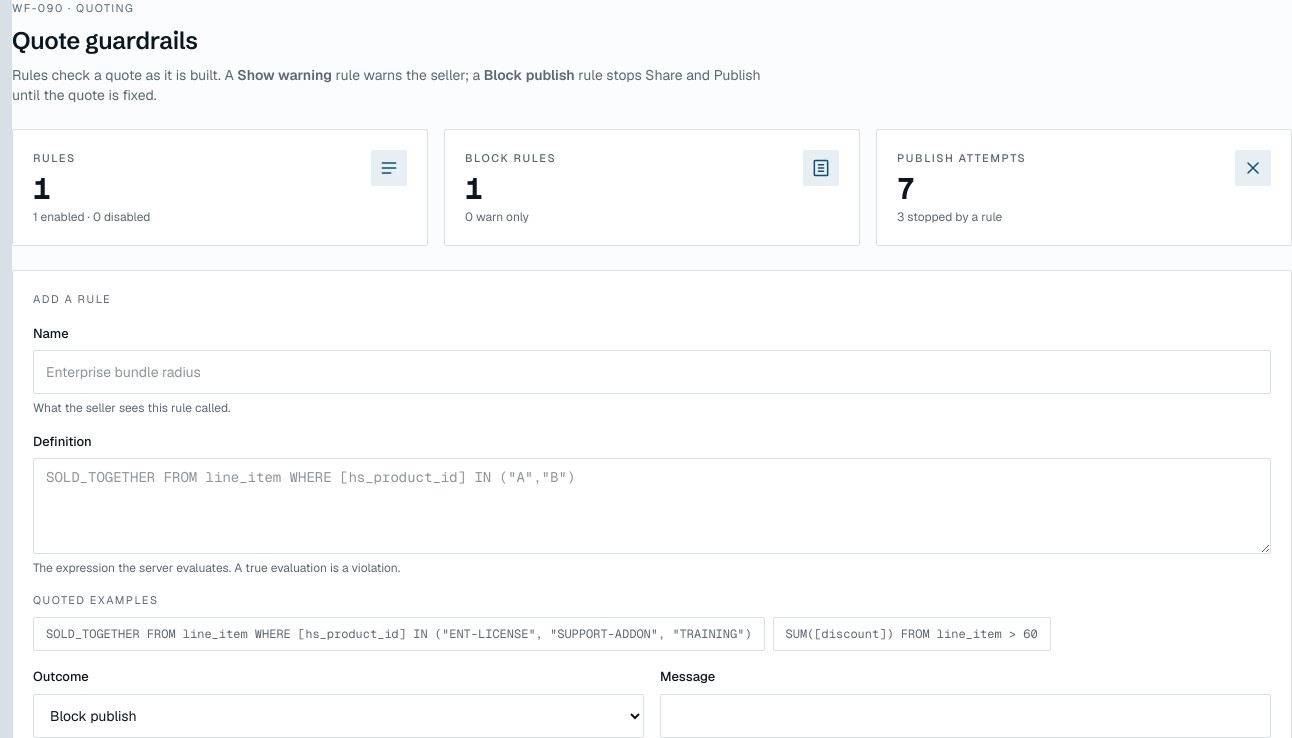
Test: the page › shows the parser reason when a definition is refused, and still 200
This screenshot has width=1292, height=738.
expect the heading "Quote guardrails" is shown: met, box [12,26,198,55]
Replace the text in the text box labelled "Definition" with "[quote.hs_discount] > 5" at (652, 506), box [33,458,1271,554]
(page scrolled)
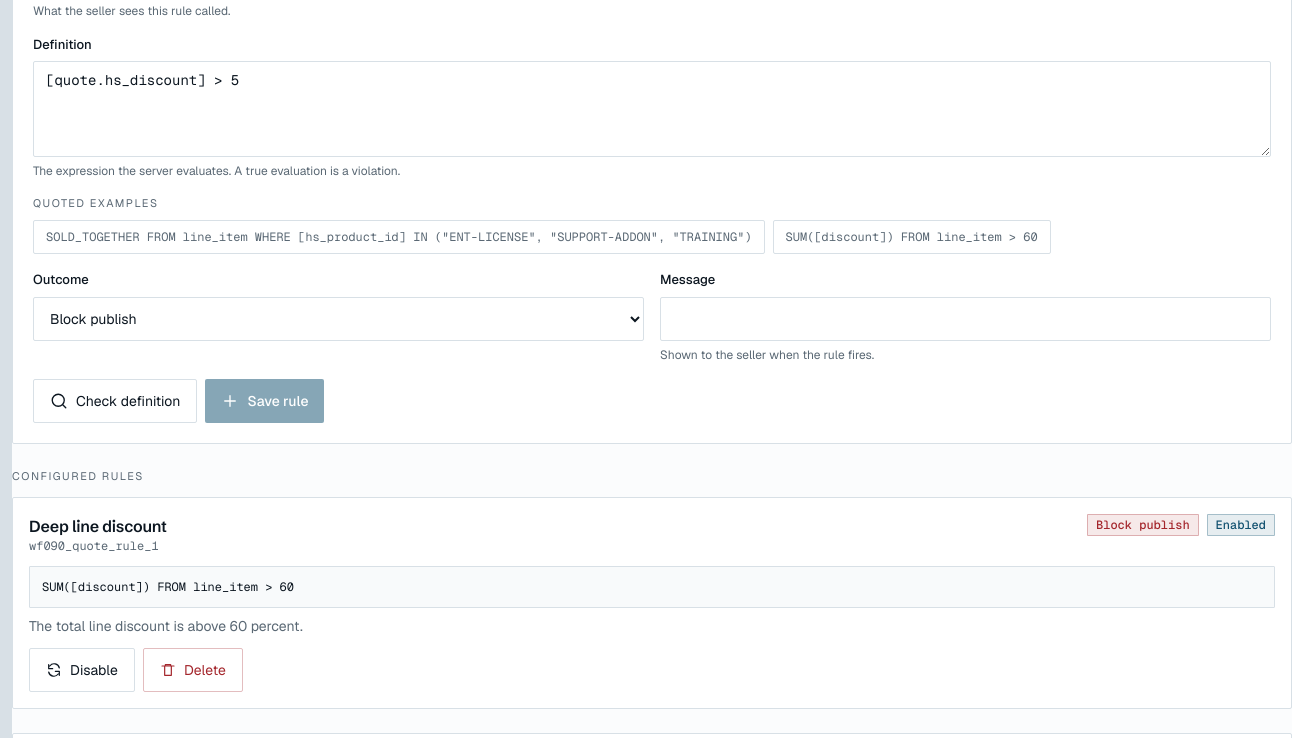
Click the button "Check definition" at (115, 401), box [33,379,197,423]
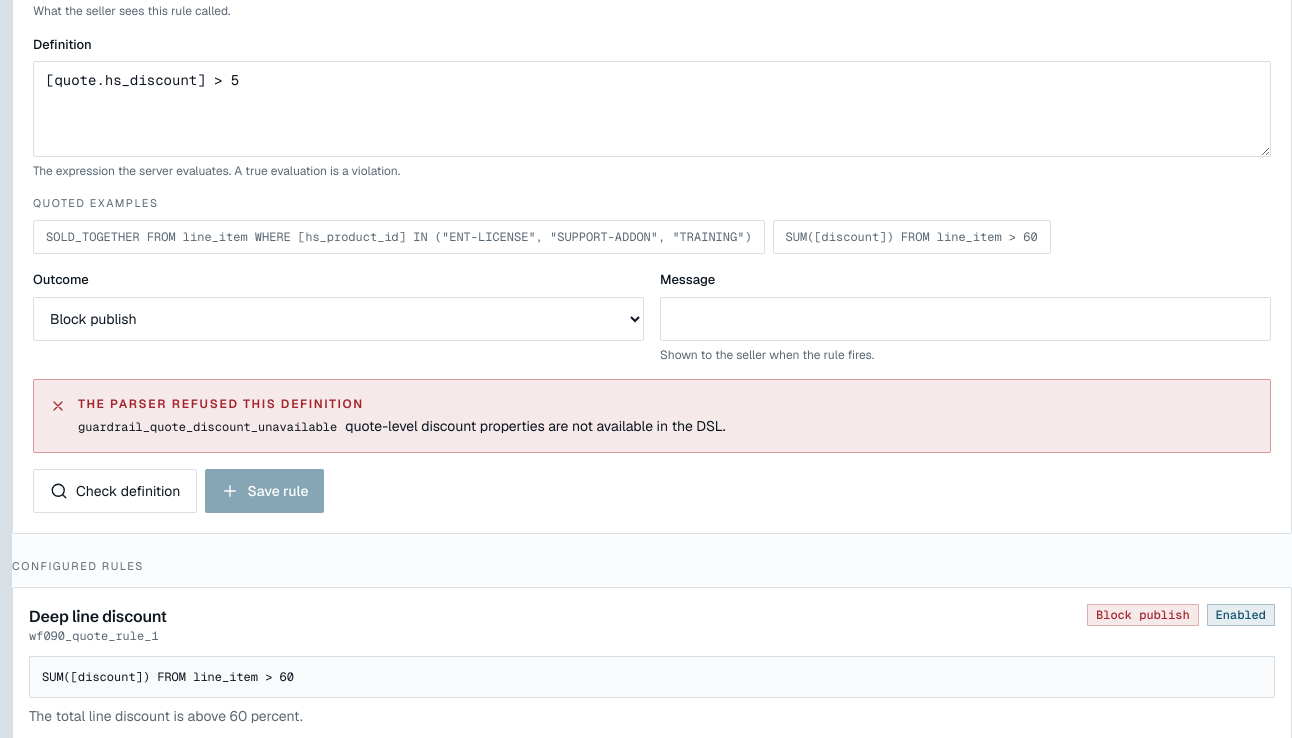
expect the text "The parser refused this definition" is shown: met, box [78,396,364,412]
expect the text "guardrail_quote_discount_unavailable" is shown: met, box [78,419,337,435]
